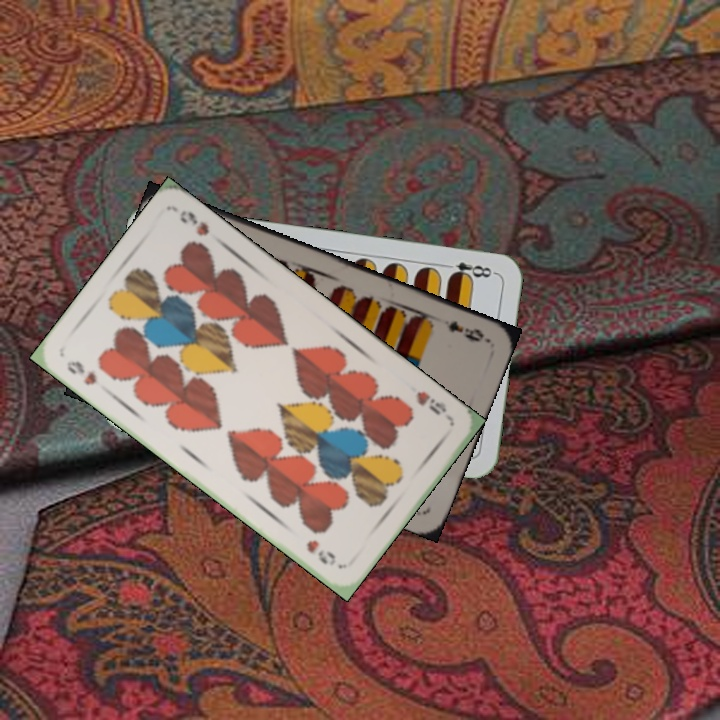E8: (439, 258, 498, 282)
E9: (444, 316, 490, 345)
H9: (412, 387, 455, 423), (62, 356, 100, 388)
